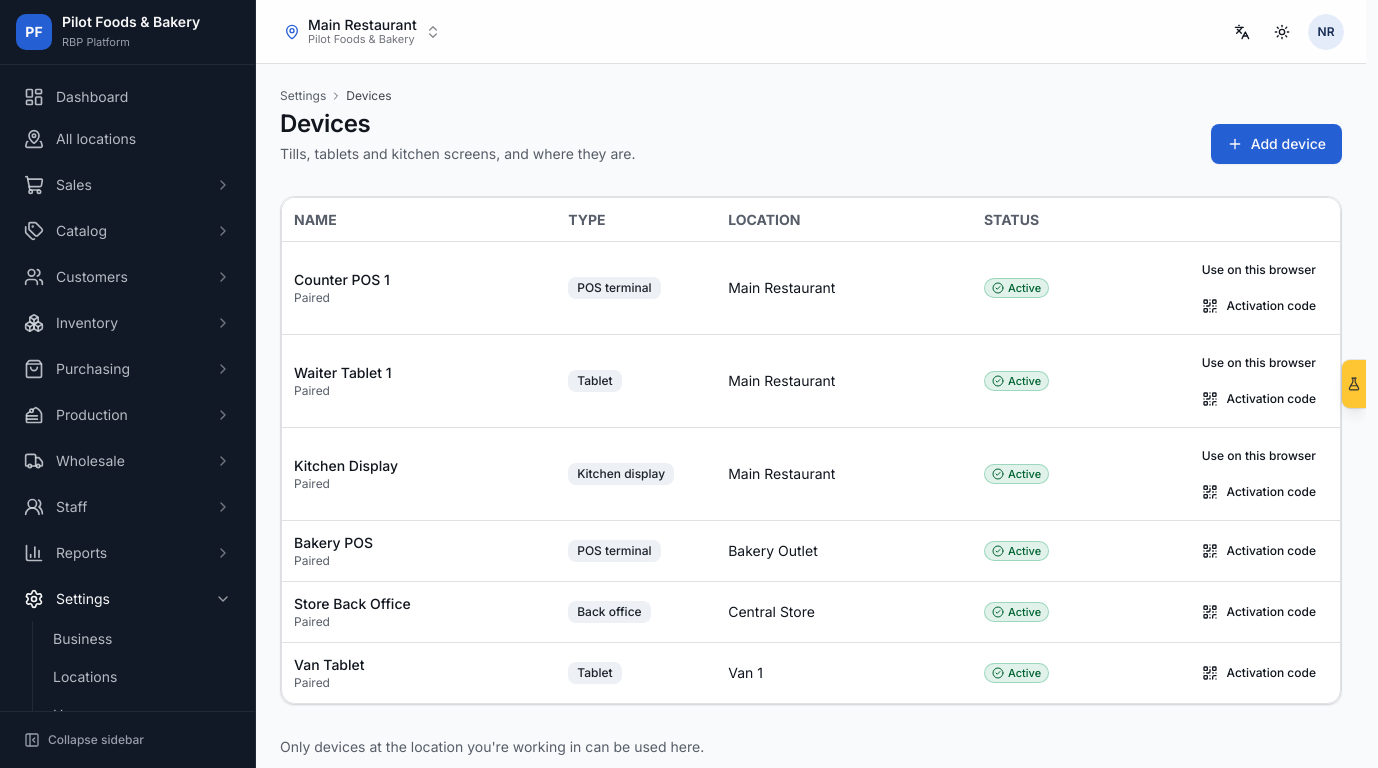
Test case: SET-005 devices › uses a device on this browser
Click the button with aria-label "Use on this browser: Waiter Tablet 1" at (1259, 363), box [1190,347,1328,379]
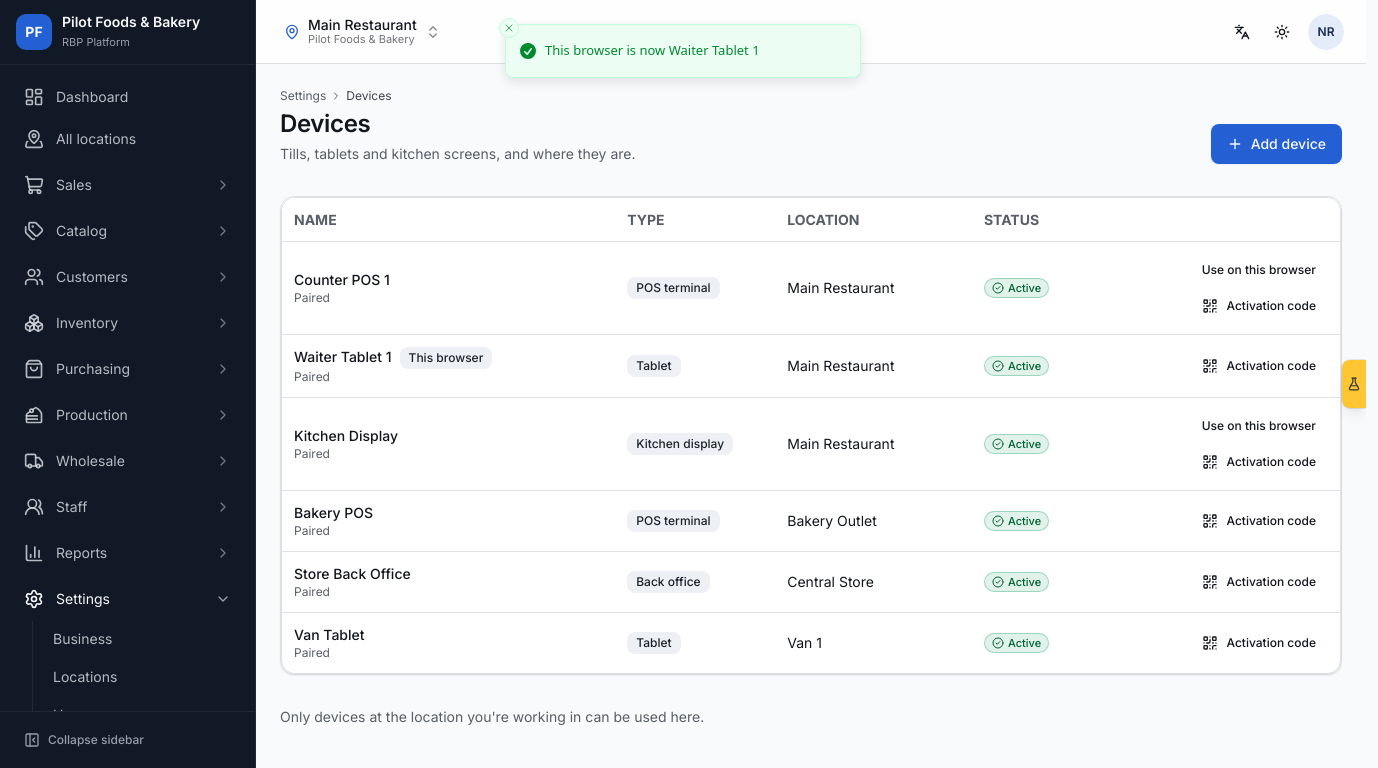
Expected: the text "This browser" is shown, [400,347,492,369]
